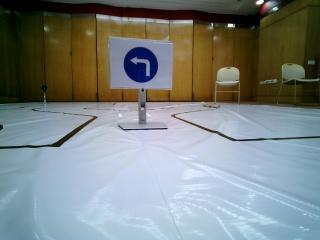left: (115, 42, 168, 84)
